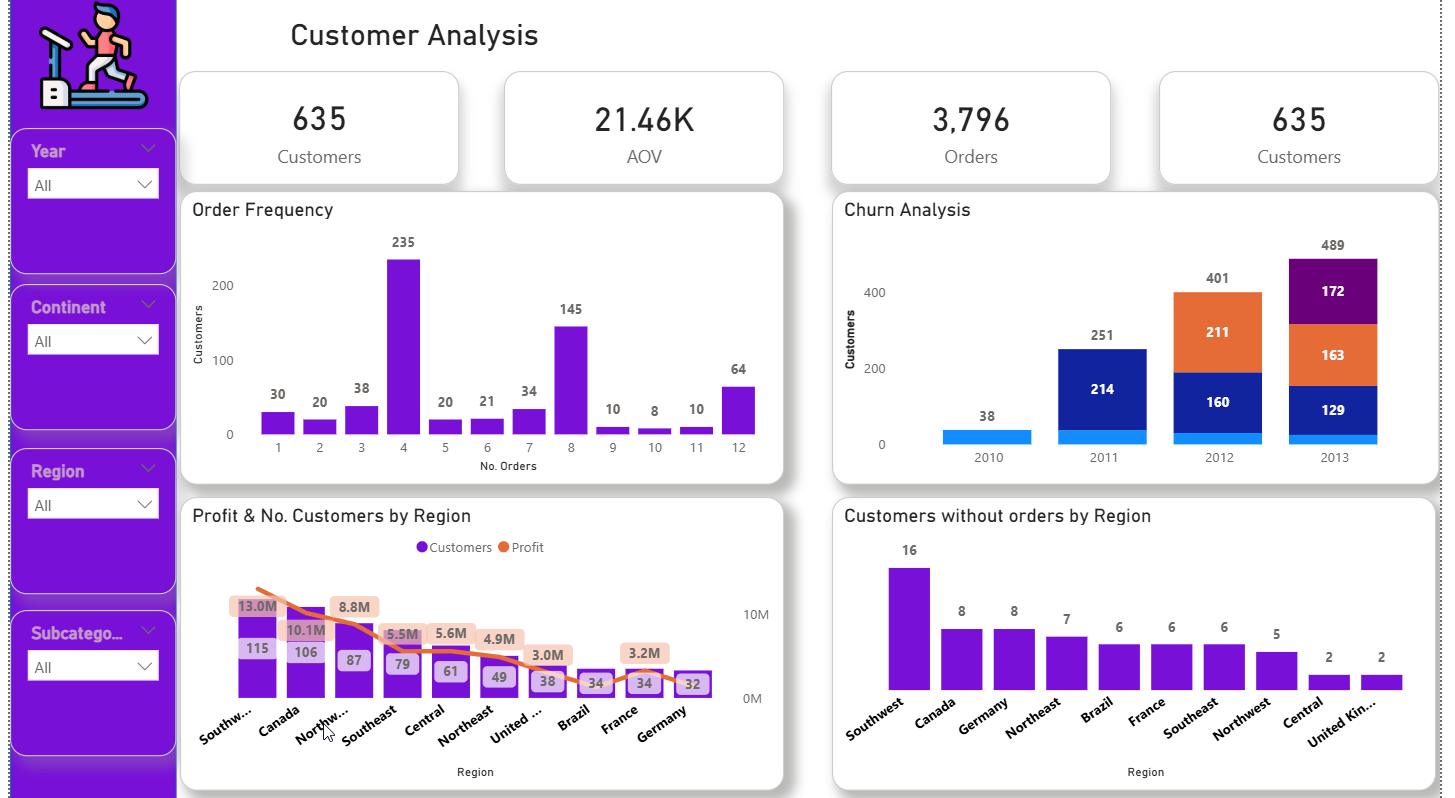

This screenshot's page, from the dashboard's own definition file:
{"tool":"powerbi","page":{"name":"Customer Analysis","canvas":[1280,720],"ordinal":1},"visuals":[{"type":"shape","box":[0,1,149.3,719.5],"z":0,"group":"g2"},{"type":"card","fields":{"Values":["Revenue.10 Customers"]},"box":[151.2,68.4,251.4,102.1],"z":0},{"type":"card","fields":{"Values":["Revenue.81 AOV"]},"box":[442.5,68.2,251.2,102.4],"z":1000},{"type":"card","fields":{"Values":["Revenue.04 Orders"]},"box":[735.6,68.2,251.2,102.4],"z":2000},{"type":"card","fields":{"Values":["Revenue.10 Customers"]},"box":[1028.8,68.2,251.2,102.4],"z":3000},{"type":"group","id":"g1","title":"Group 1","box":[0,0,149.3,720.4],"z":4000},{"type":"lineClusteredColumnComboChart","title":"Order Frequency","fields":{"Category":["Customers.No. Orders"],"Y":["Revenue.10 Customers"]},"box":[152.2,175.3,541.3,262.9],"z":5000},{"type":"columnChart","title":"Churn Analysis","fields":{"Category":["CalendarTable.Year"],"Series":["Customers.FIrst Order"],"Y":["Revenue.10 Customers"]},"box":[735.8,175.3,544.2,262.9],"z":6000},{"type":"lineClusteredColumnComboChart","title":"Profit & No. Customers by Region","fields":{"Y":["Revenue.10 Customers"],"Category":["Customers.Region"],"Y2":["Revenue.05 Profit"]},"box":[152.2,449.8,541.3,262.9],"z":7000},{"type":"lineClusteredColumnComboChart","title":"Customers without orders by Region","fields":{"Category":["Customers.Region"],"Y":["Revenue.83 No sales"]},"box":[735.8,449.8,541.3,262.9],"z":8000},{"type":"card","fields":{"Values":["Revenue.Customer Analysis Title"]},"box":[152,0,427,69],"z":9000},{"type":"group","id":"g2","title":"Group 2","box":[0,1,149.3,719.5],"z":9000,"group":"g1"},{"type":"group","id":"g3","title":"Group 3","box":[0,0,149.3,681.9],"z":11509,"group":"g1"},{"type":"slicer","fields":{"Values":["CalendarTable.Year"]},"box":[0,119.4,149.3,131],"z":12004,"group":"g3"},{"type":"slicer","fields":{"Values":["Customers.Continent"]},"box":[0,259.1,149.3,131],"z":12504,"group":"g3"},{"type":"slicer","fields":{"Values":["Customers.Region"]},"box":[0,405.5,149.3,131],"z":13004,"group":"g3"},{"type":"slicer","fields":{"Values":["Product.SubcategoryName"]},"box":[0,550.9,149.3,131],"z":13504,"group":"g3"},{"type":"image","box":[0,0,149.3,107.9],"z":14004,"group":"g3"}]}

Visuals, with their boxes in screenshot pixels (x1, y1, x2, y2), scaled from the page's 1280x720 canvas onto the 1455x798 screenshot:
shape: [x1=0, y1=1, x2=170, y2=797]
card - Revenue.10 Customers: [x1=172, y1=76, x2=458, y2=189]
card - Revenue.81 AOV: [x1=503, y1=76, x2=789, y2=189]
card - Revenue.04 Orders: [x1=836, y1=76, x2=1122, y2=189]
card - Revenue.10 Customers: [x1=1169, y1=76, x2=1454, y2=189]
"Group 1" group: [x1=0, y1=0, x2=170, y2=797]
"Order Frequency" lineClusteredColumnComboChart: [x1=173, y1=194, x2=788, y2=486]
"Churn Analysis" columnChart: [x1=836, y1=194, x2=1454, y2=486]
"Profit & No. Customers by Region" lineClusteredColumnComboChart: [x1=173, y1=499, x2=788, y2=790]
"Customers without orders by Region" lineClusteredColumnComboChart: [x1=836, y1=499, x2=1452, y2=790]
card - Revenue.Customer Analysis Title: [x1=173, y1=0, x2=658, y2=76]
"Group 2" group: [x1=0, y1=1, x2=170, y2=797]
"Group 3" group: [x1=0, y1=0, x2=170, y2=756]
slicer - CalendarTable.Year: [x1=0, y1=132, x2=170, y2=278]
slicer - Customers.Continent: [x1=0, y1=287, x2=170, y2=432]
slicer - Customers.Region: [x1=0, y1=449, x2=170, y2=595]
slicer - Product.SubcategoryName: [x1=0, y1=611, x2=170, y2=756]
image: [x1=0, y1=0, x2=170, y2=120]
